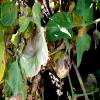Potato leaf late blight: (18, 25, 48, 77), (46, 10, 74, 40), (21, 5, 43, 28)
